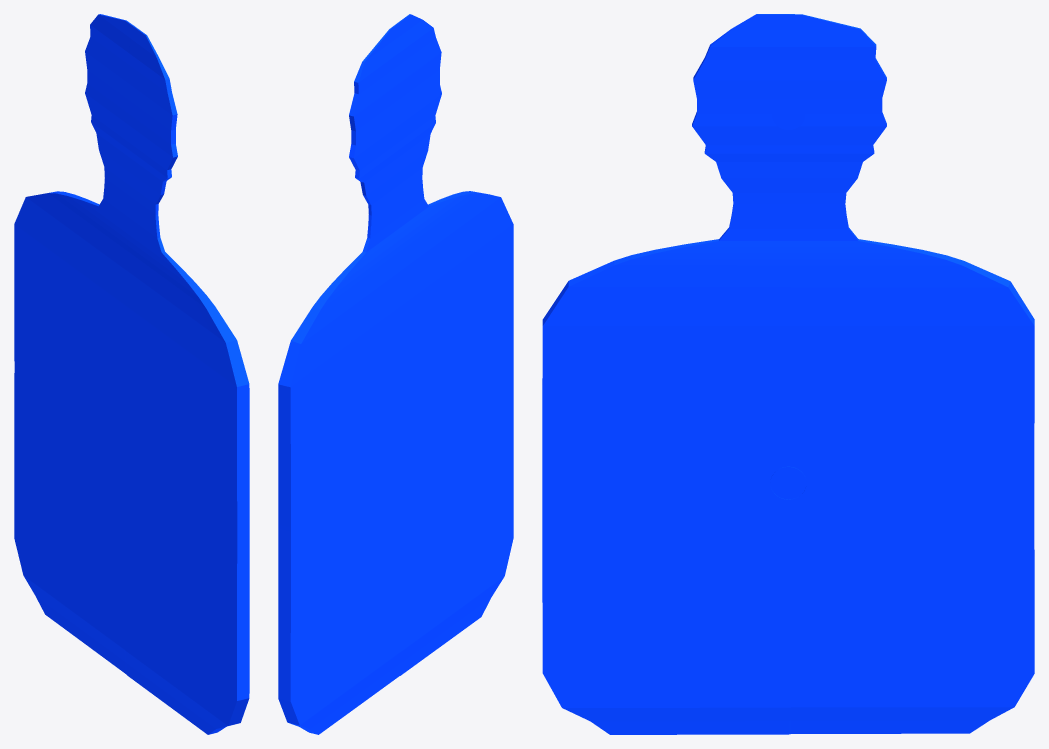
Rendered from HumanTarget.fbx.
3 renders of one model, left to right at view 1: azimuth 30°, elevation 25°; view 2: azimuth 150°, elevation 25°; view 3: azimuth 270°, elevation 25°, orthographic. The views are drawn at different scales.
Visible parts, largest first — view 1: Cube; view 2: Cube; view 3: Cube.
Boxes of the visible parts, x1,y1,x2,y2 form: Cube: (14, 14, 249, 734); Cube: (278, 14, 513, 734); Cube: (542, 14, 1034, 734).
Size of the model in its own units: 3.88 by 177 by 110.
